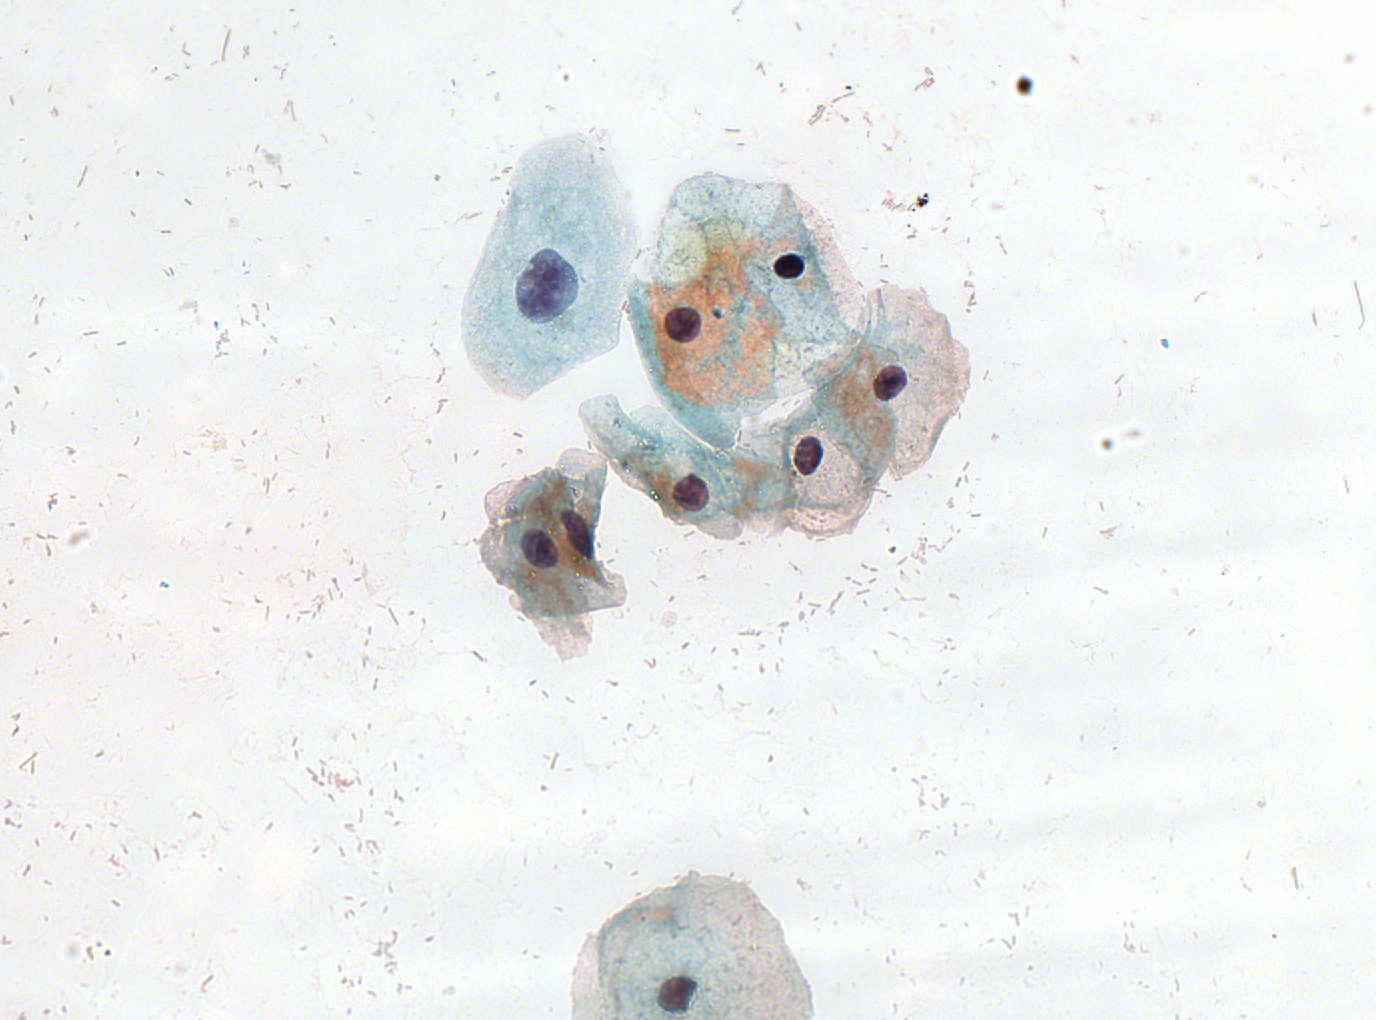Abnormal_Nucleus: (514, 243, 583, 328)
Normal_Nucleus: (554, 501, 595, 566), (514, 526, 563, 577), (650, 972, 704, 1016), (667, 469, 711, 517), (661, 303, 703, 345), (790, 433, 826, 480), (873, 359, 907, 404), (769, 247, 805, 281)
